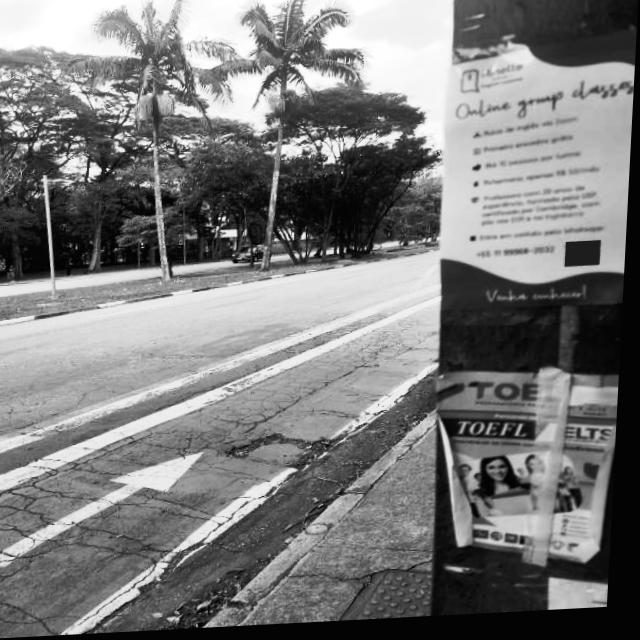qr_code: (568, 247, 603, 273)
